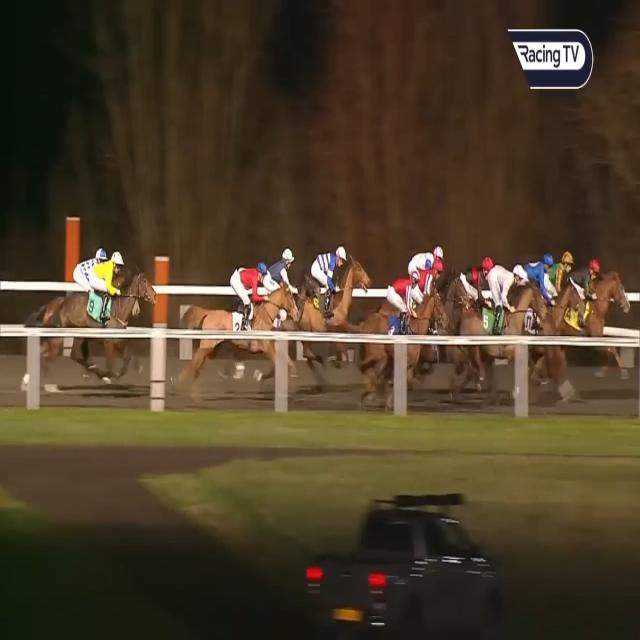horses-racing: (60, 245, 157, 375), (292, 236, 366, 352), (206, 264, 270, 376), (462, 261, 535, 355), (560, 248, 627, 346), (378, 270, 437, 370), (440, 245, 498, 328), (502, 250, 559, 332), (383, 241, 451, 291), (260, 241, 300, 316), (536, 247, 577, 318), (64, 237, 109, 301), (406, 259, 451, 323)
